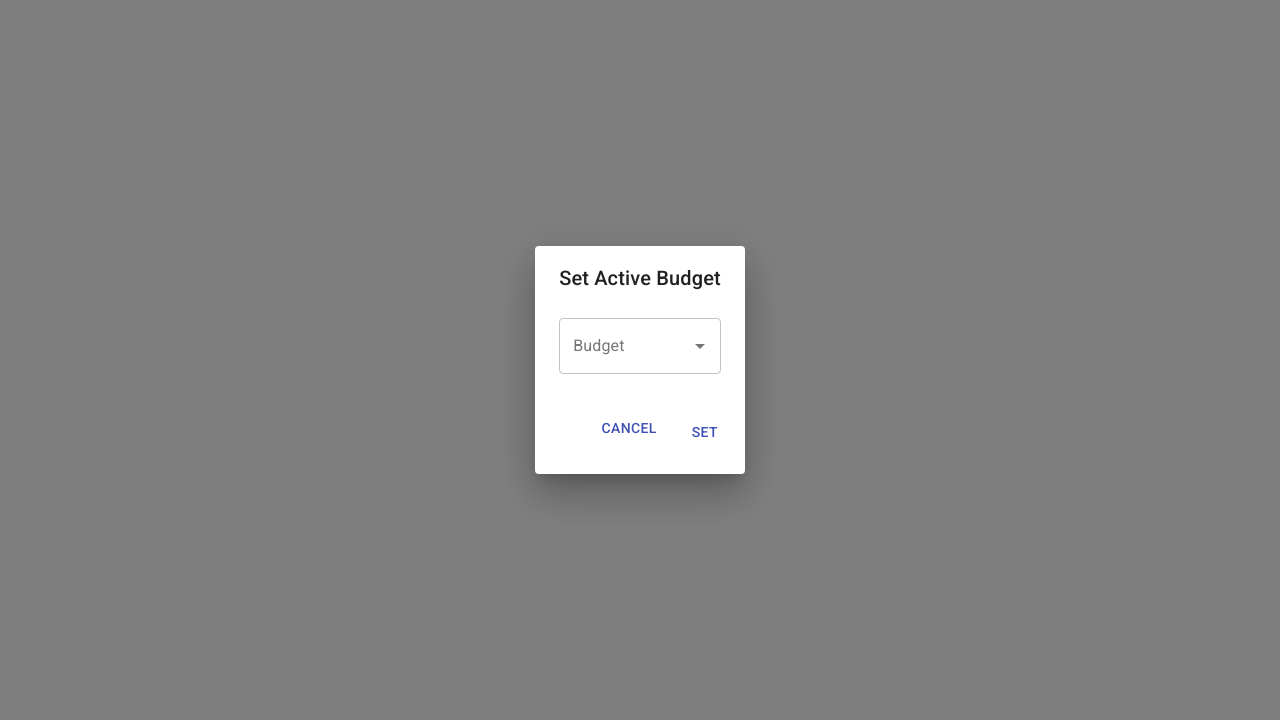
Test: should prevent submission when required fields are missing
Expected: the heading "Set Active Budget" is shown, [559,262,721,294]
Click the button "Set" at [705, 432], box [673,414,737,450]
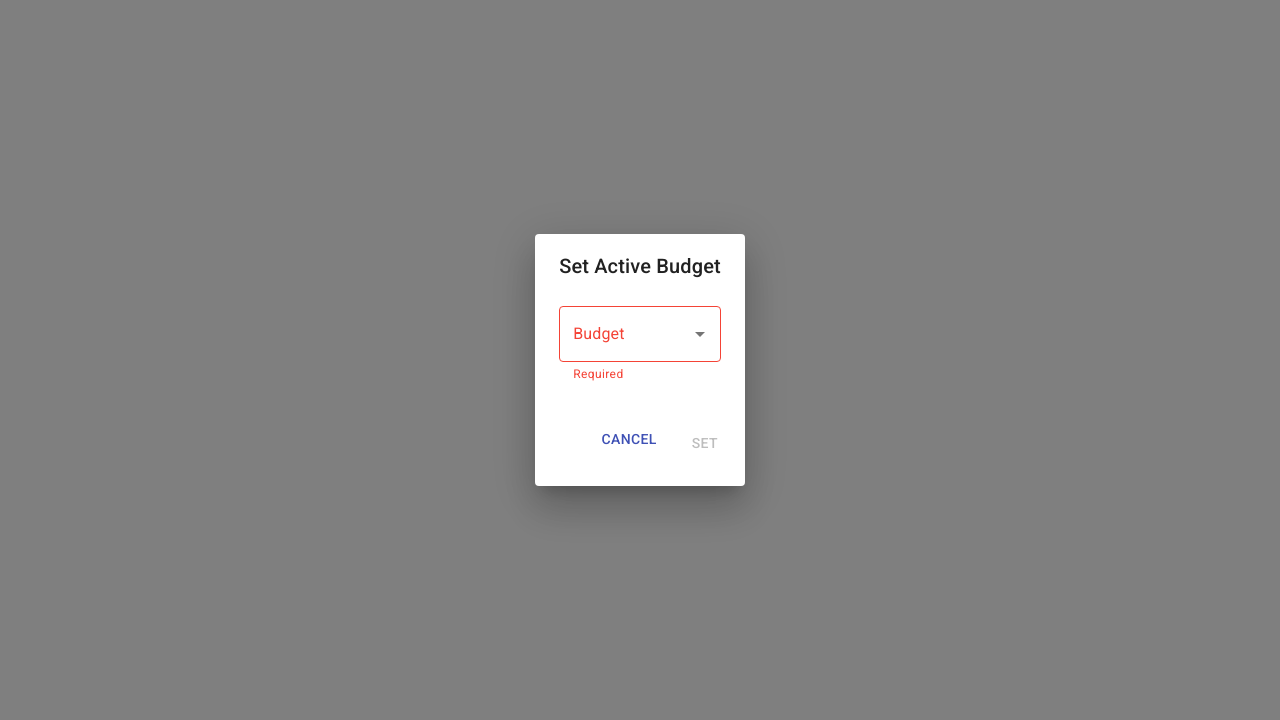
Now the text "Required" is shown, box [573,367,624,381]
Now the button "Set" is disabled, box [673,425,737,462]
